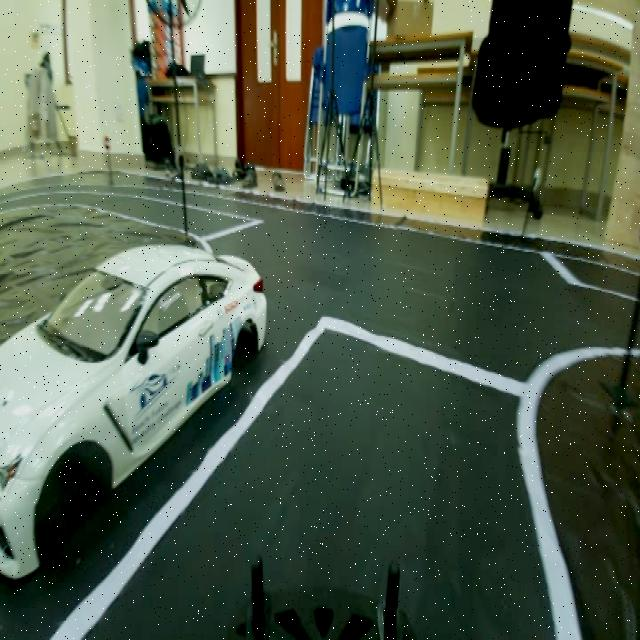car: (0, 247, 288, 569)
